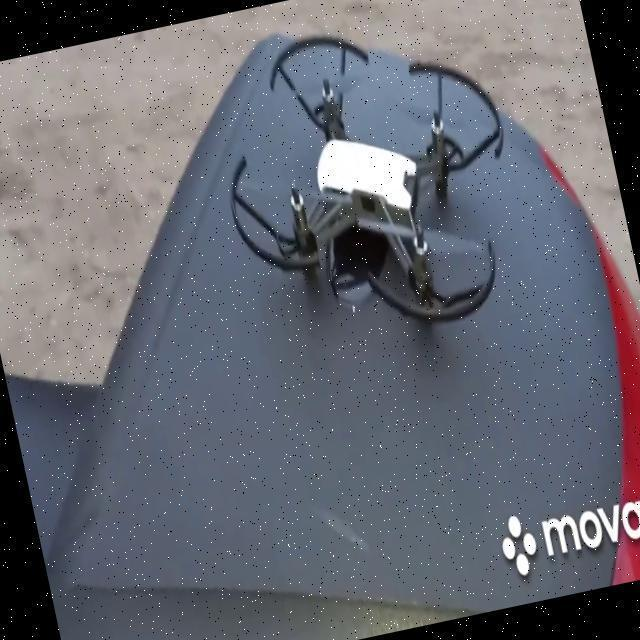Drons: (193, 0, 546, 367)
